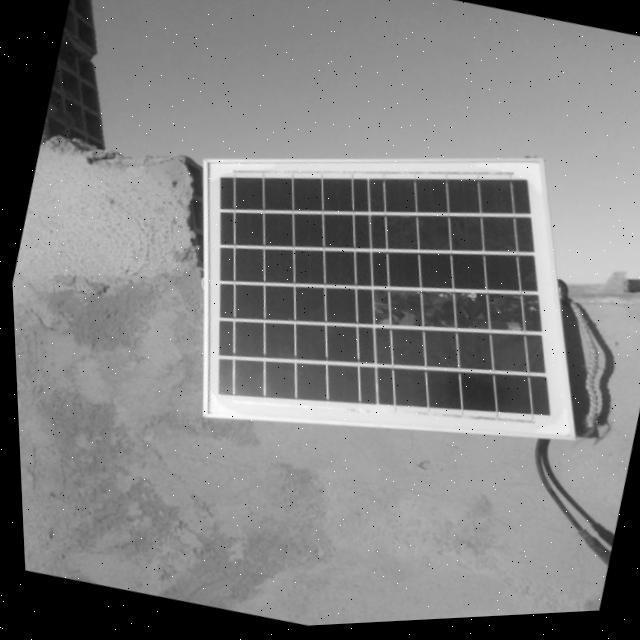Normal Solar Panel: (140, 82, 632, 508)
